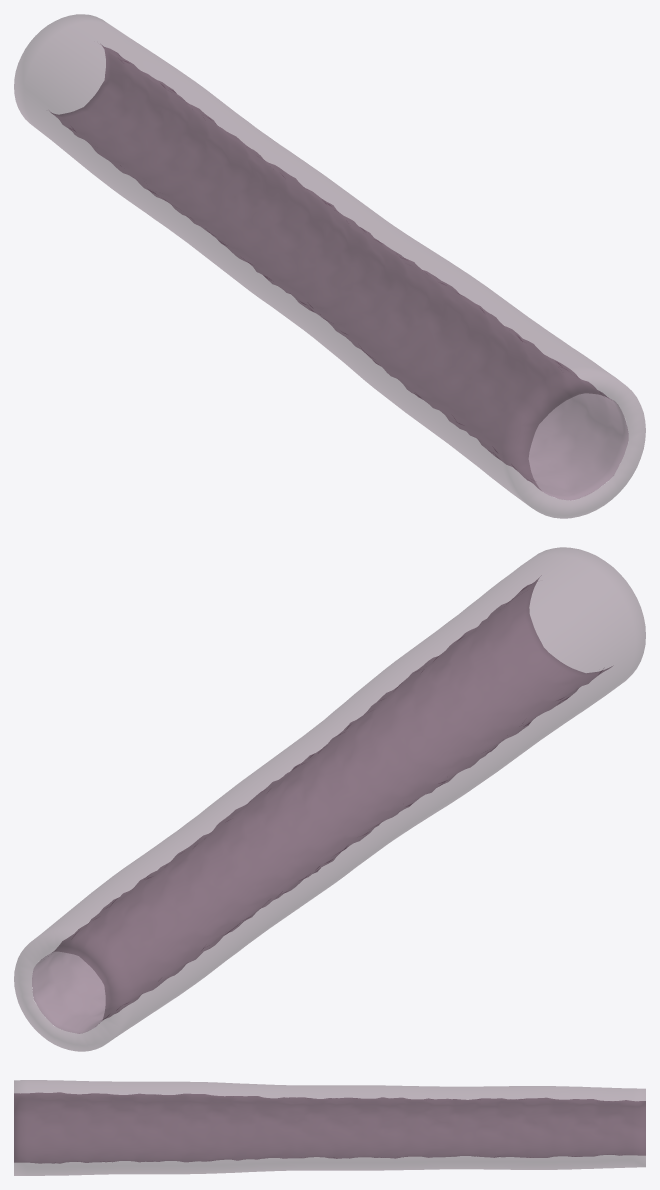
Rendered from s3_nephron_tubule.glb.
The picture shows the model from 3 angles, top to bottom: view 1: azimuth 30°, elevation 25°; view 2: azimuth 150°, elevation 25°; view 3: azimuth 270°, elevation 25°; orthographic projection. The views are drawn at different scales.
Visible parts, largest first — view 1: tubule; view 2: tubule; view 3: tubule.
Part boxes in pixels (x1,y1,x2,y2): tubule: (14,14,645,518); tubule: (14,547,645,1051); tubule: (14,1080,645,1175).
Size of the model in its own units: 0.6076 by 0.6076 by 4.
